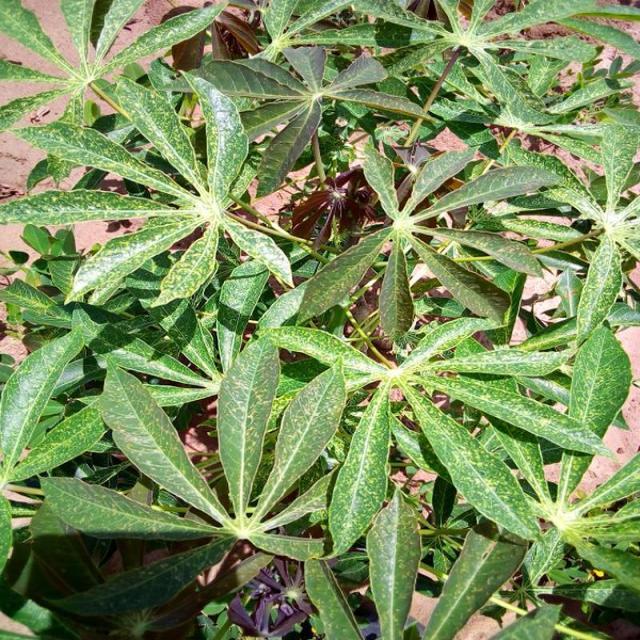cassava leaf: (2, 0, 639, 638), (217, 333, 282, 519)
